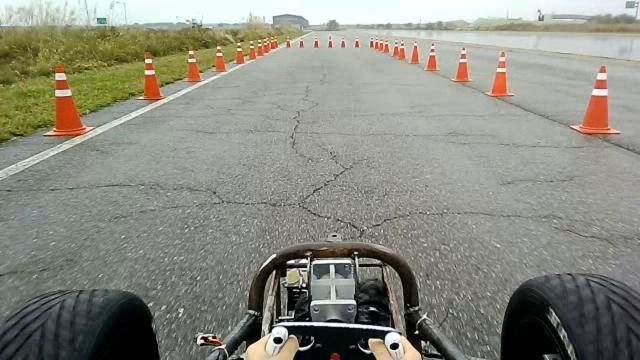red cone: (42, 62, 94, 137), (569, 64, 621, 135), (135, 50, 165, 101), (485, 50, 514, 98), (452, 46, 474, 83), (182, 46, 202, 82), (424, 42, 440, 71), (212, 43, 228, 72), (408, 40, 421, 64), (233, 41, 246, 64)
